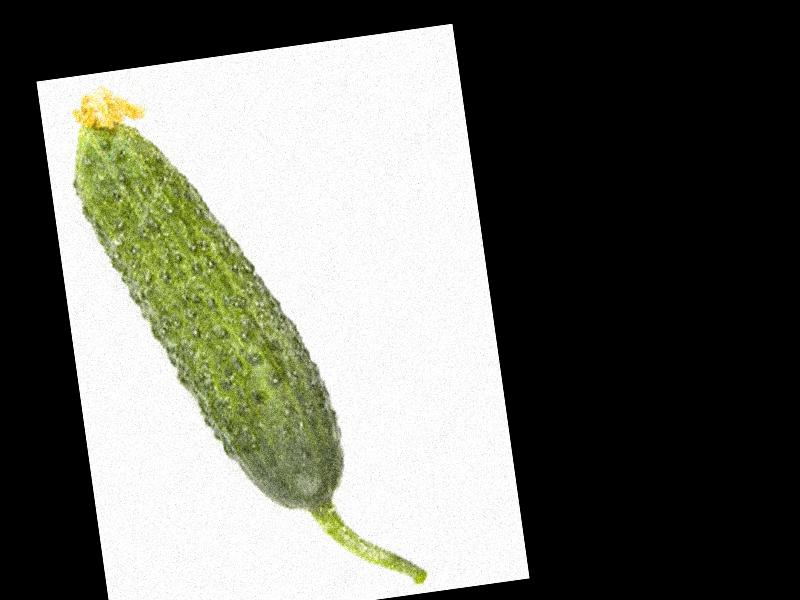Cucumber: (59, 49, 427, 600)
